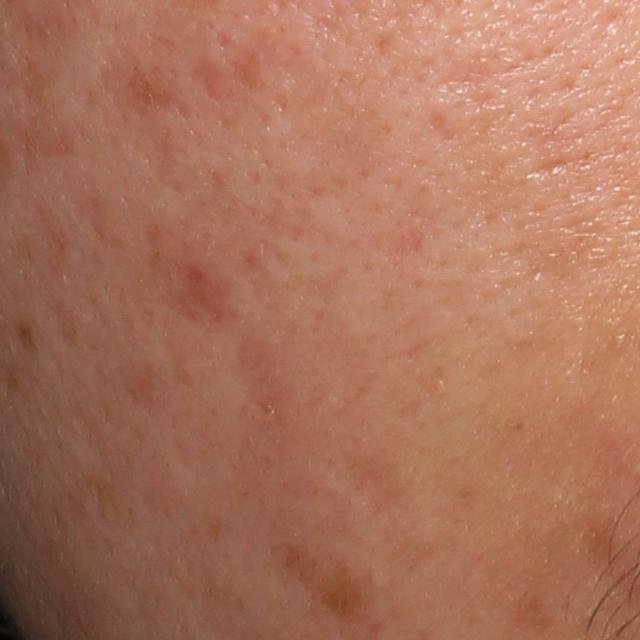atrophic_scar: (213, 28, 278, 96), (181, 47, 232, 114), (526, 158, 576, 182)
